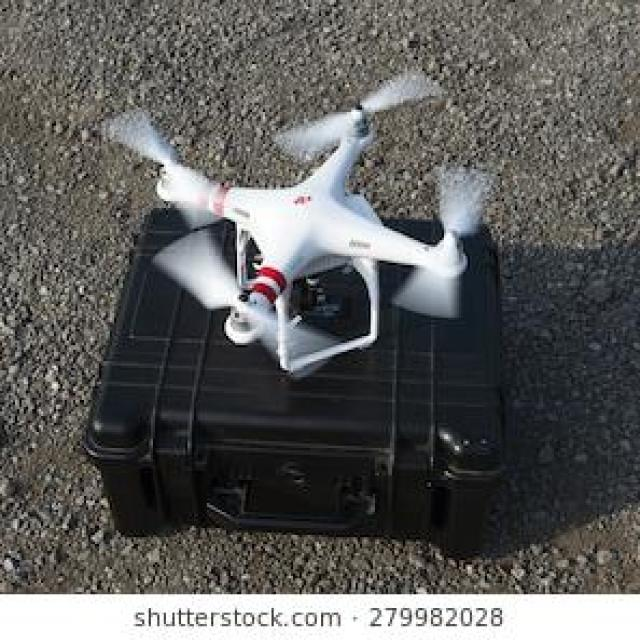drone: (52, 33, 596, 414)
